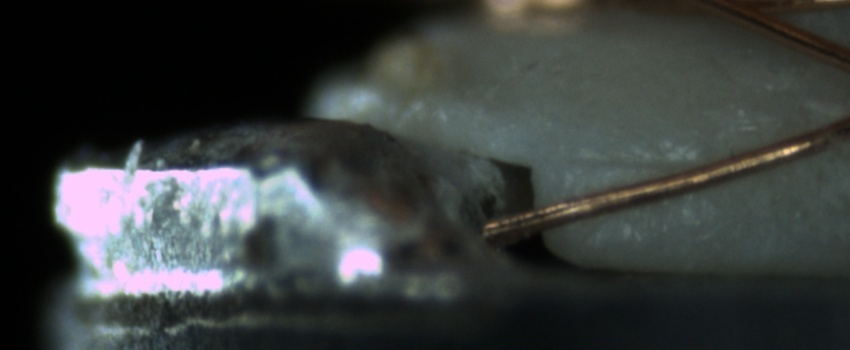DL: (561, 132, 708, 189)
